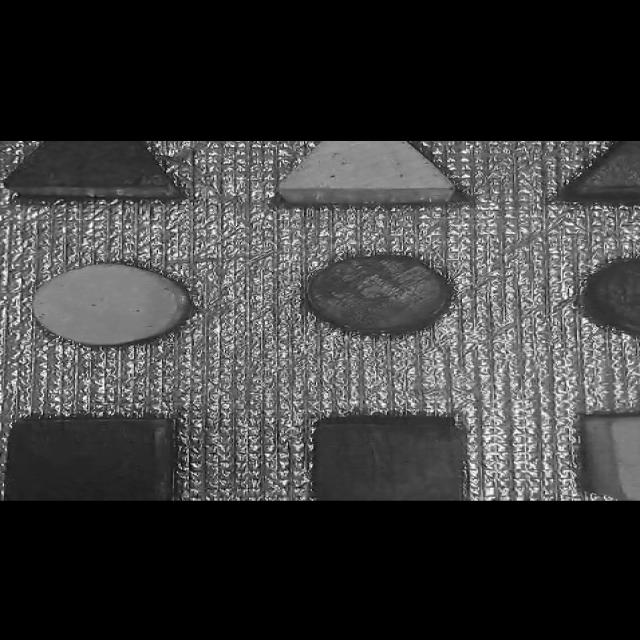bcube: (290, 408, 496, 508)
btriangle: (0, 142, 196, 209)
rcircle: (286, 250, 458, 354)
rcube: (0, 403, 185, 508)
ycircle: (31, 253, 196, 357)
ytriangle: (266, 138, 469, 218)
